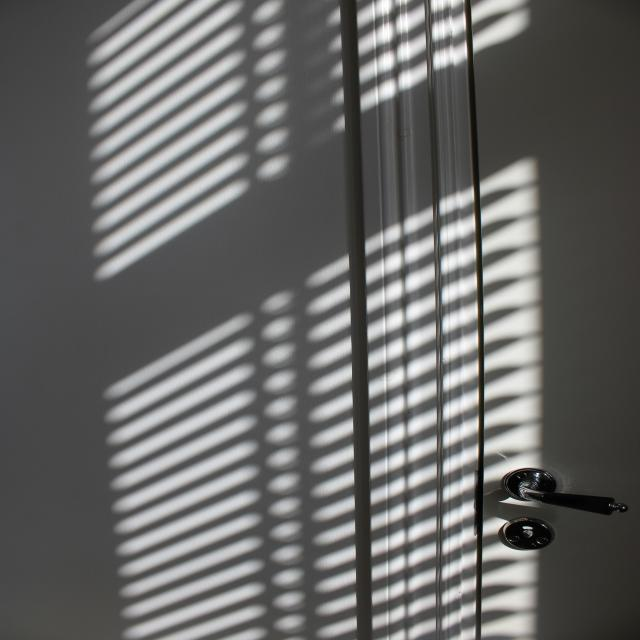door-handle: (502, 468, 628, 515)
